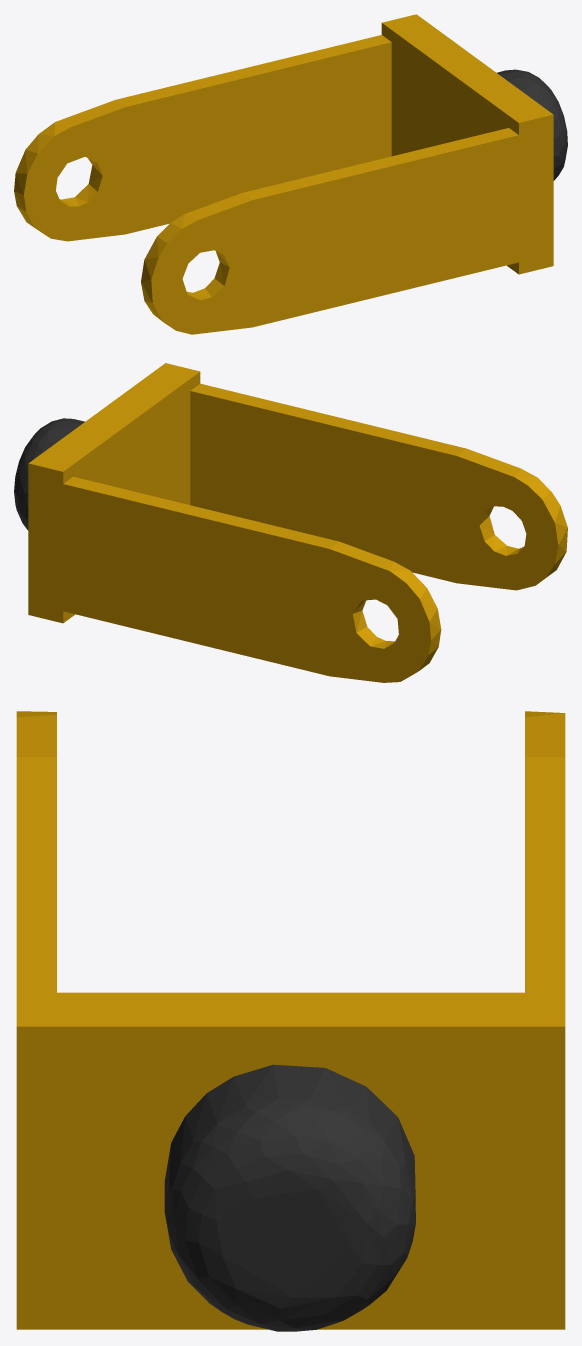
Rendered from bracket_long_tip.dae.
The picture shows the model from 3 angles, top to bottom: view 1: azimuth 30°, elevation 25°; view 2: azimuth 150°, elevation 25°; view 3: azimuth 270°, elevation 25°; orthographic projection. The views are drawn at different scales.
Visible parts, largest first — view 1: bracket_long_tip; view 2: bracket_long_tip; view 3: bracket_long_tip.
Part boxes in pixels (<box>): bracket_long_tip: <box>14,14,567,334</box>; bracket_long_tip: <box>14,363,567,682</box>; bracket_long_tip: <box>16,711,565,1331</box>.
Size of the model in its own units: 0.0805 by 0.041 by 0.025.
